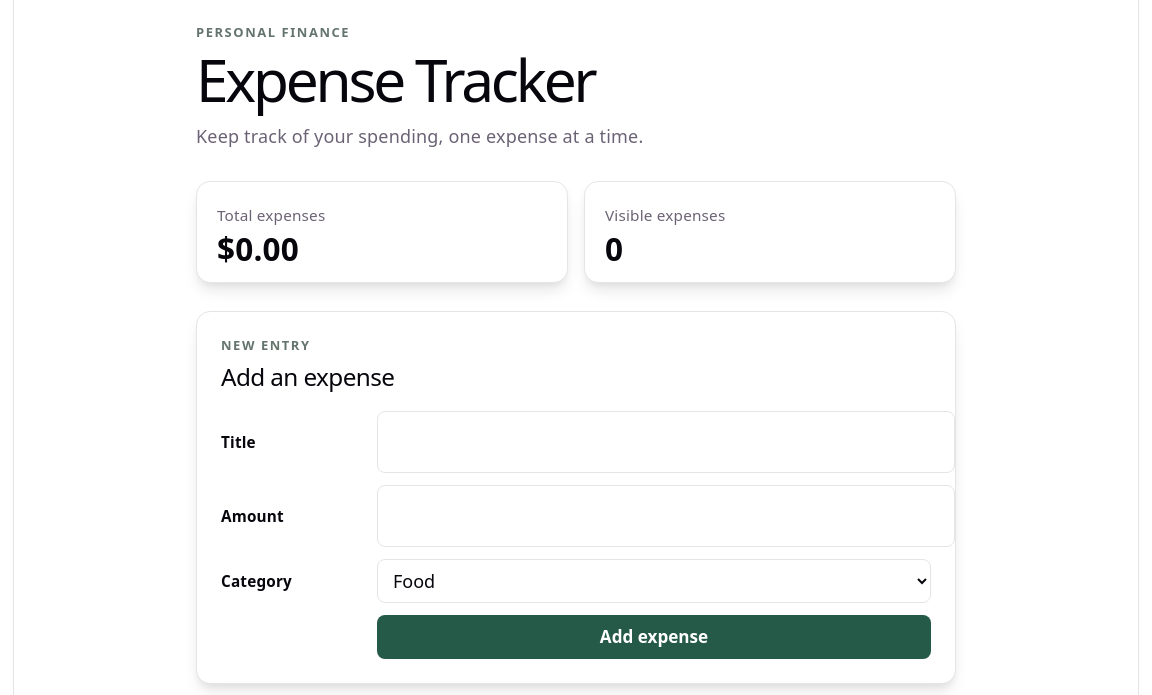
Scenario: shows zero visible expenses when the selected category has no matches
Type "Groceries" into the field labelled "Title" at (666, 442), box x1=377 y1=411 x2=955 y2=473
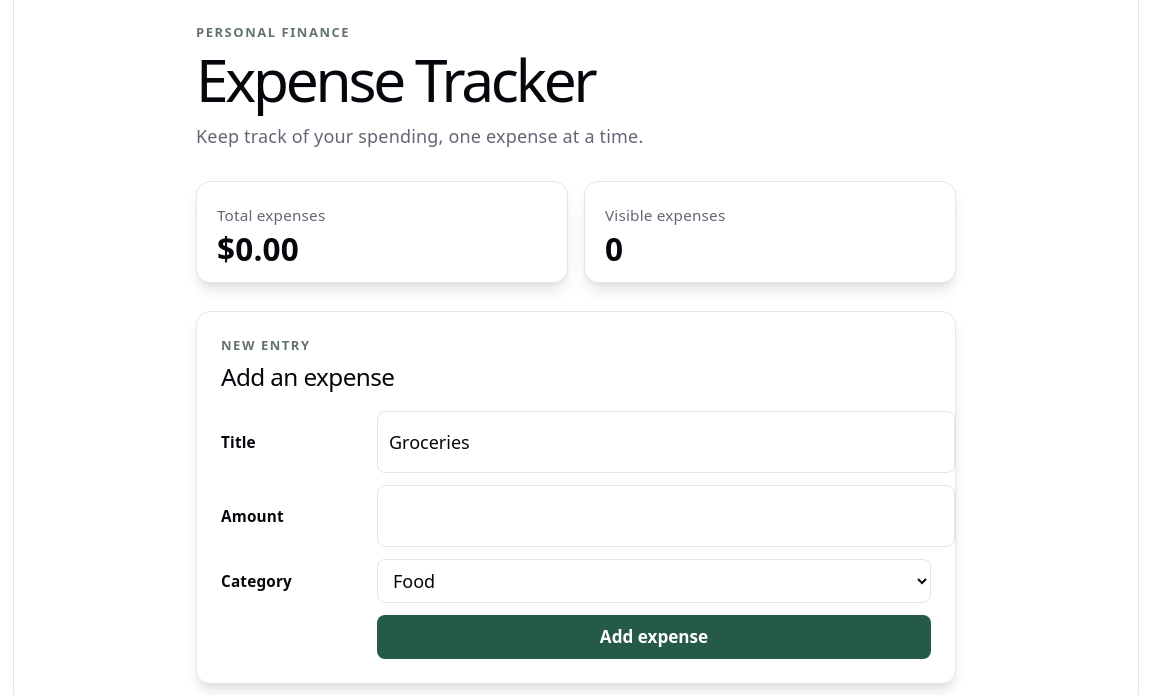
Type "12.5" into the field labelled "Amount" at (666, 516), box x1=377 y1=485 x2=955 y2=547
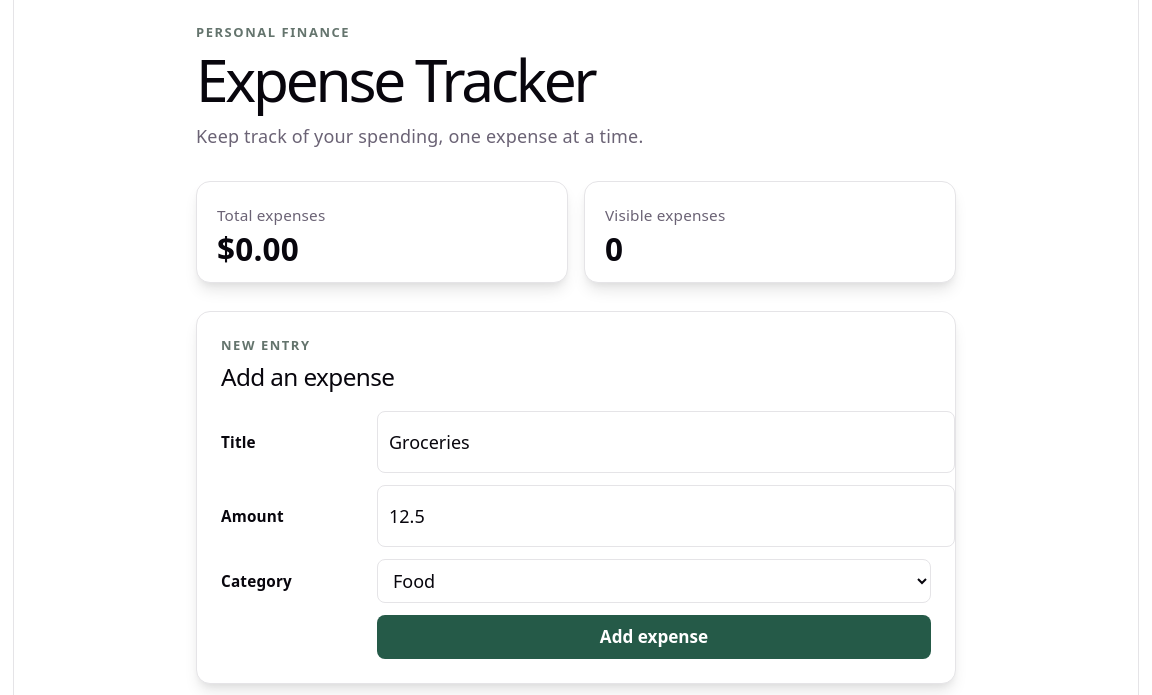
Select "Food" in the dropdown labelled "Category" at (654, 581), box x1=377 y1=559 x2=931 y2=603
Submit the form "Add expense", box x1=221 y1=411 x2=931 y2=659
(page scrolled)
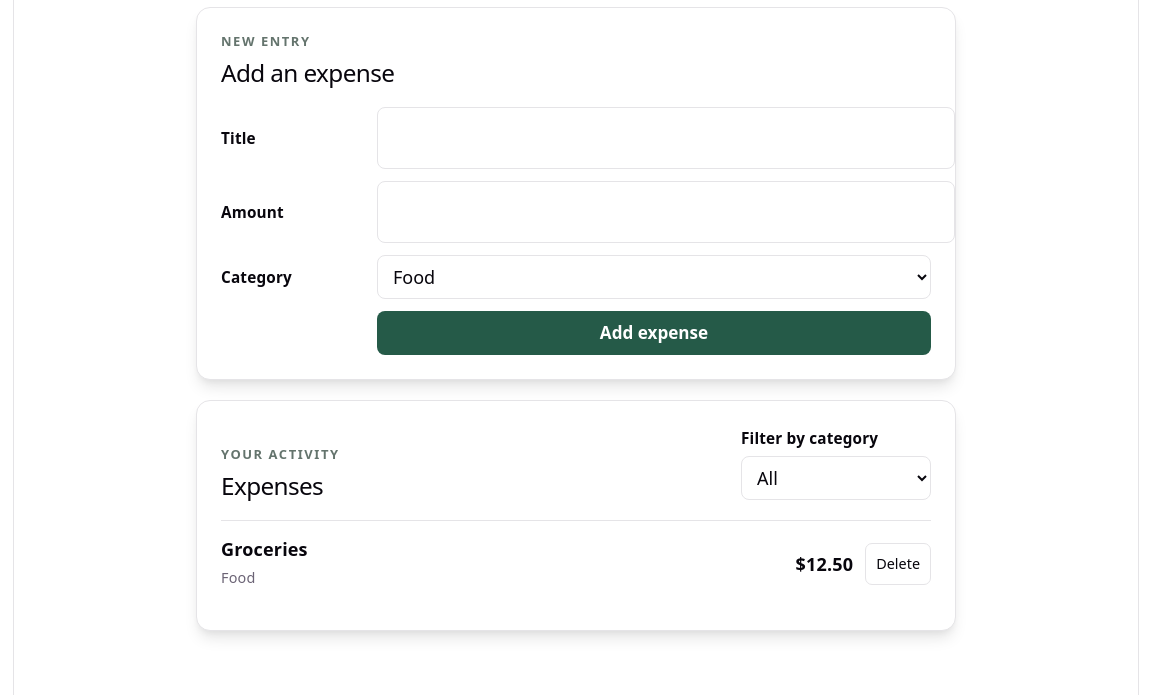
Select "Bills" in the dropdown labelled "Filter by category" at (836, 478), box x1=741 y1=456 x2=931 y2=500
(page scrolled)
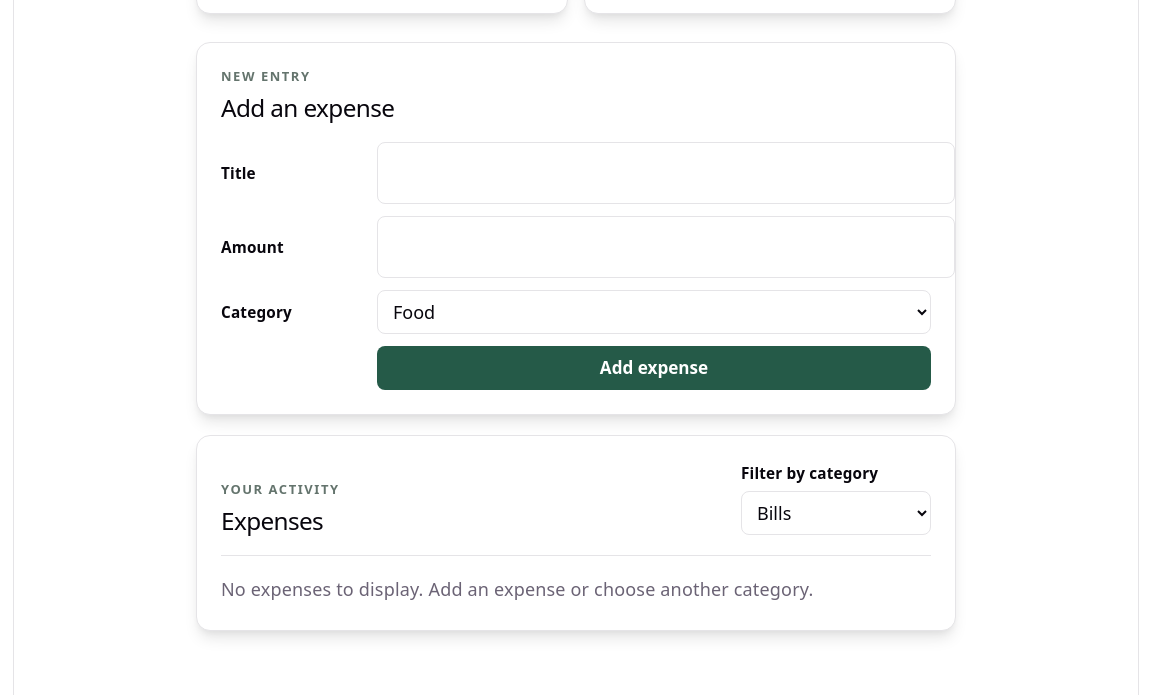
Result: the message shows "No expenses" at x1=221 y1=577 x2=814 y2=601
